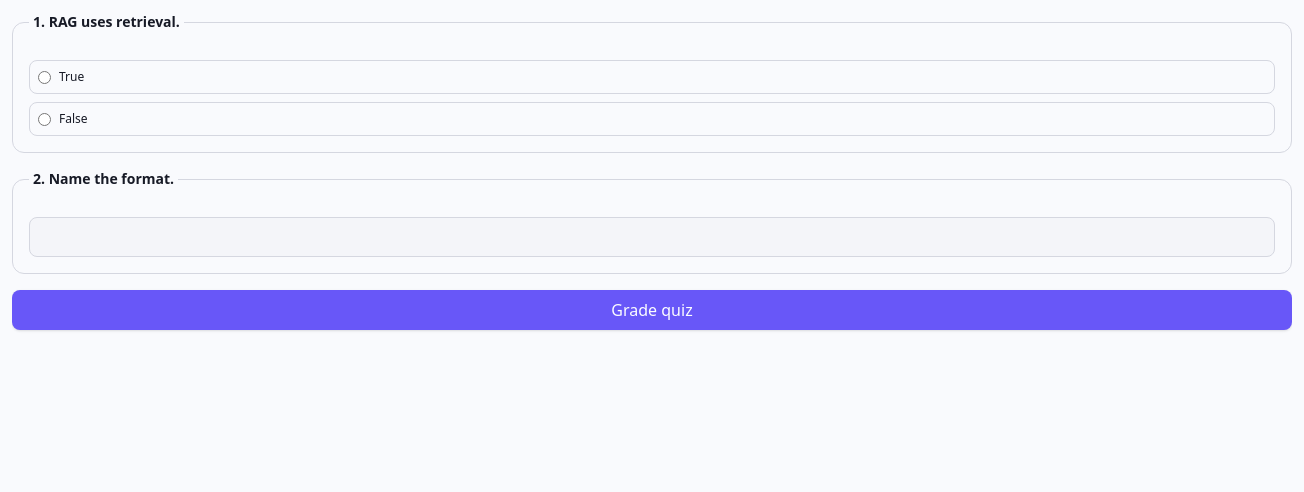
it: QuizPlayer › auto-grades and shows answer review
Click the radio button labelled "True" at [44, 77], box [38, 70, 51, 84]
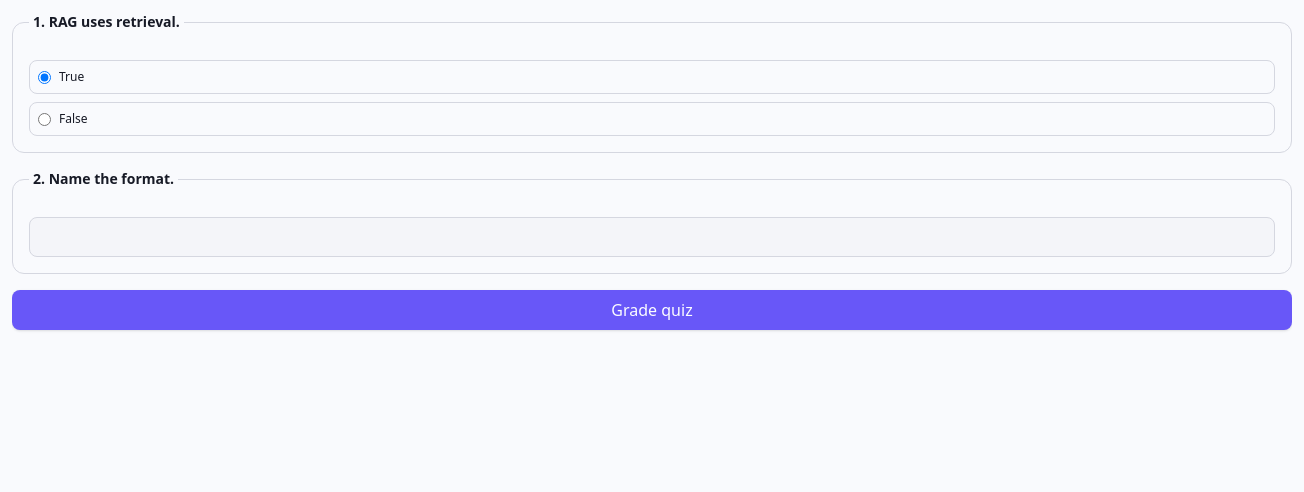
Type "csv" into the field named "Answer 2" at [652, 237], box [29, 217, 1275, 257]
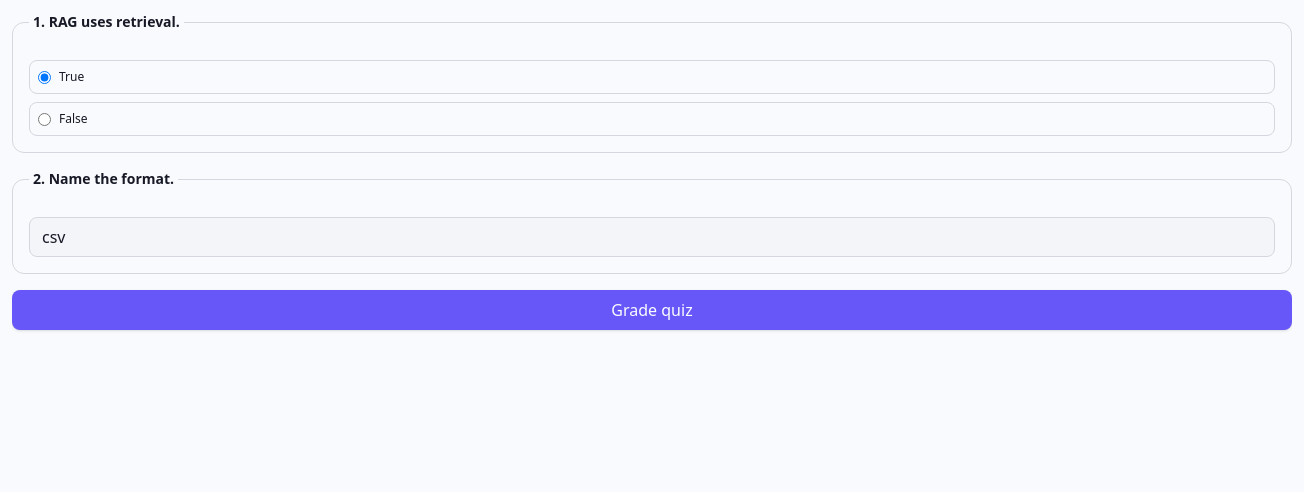
Click the button "Grade quiz" at [652, 310], box [12, 290, 1292, 330]
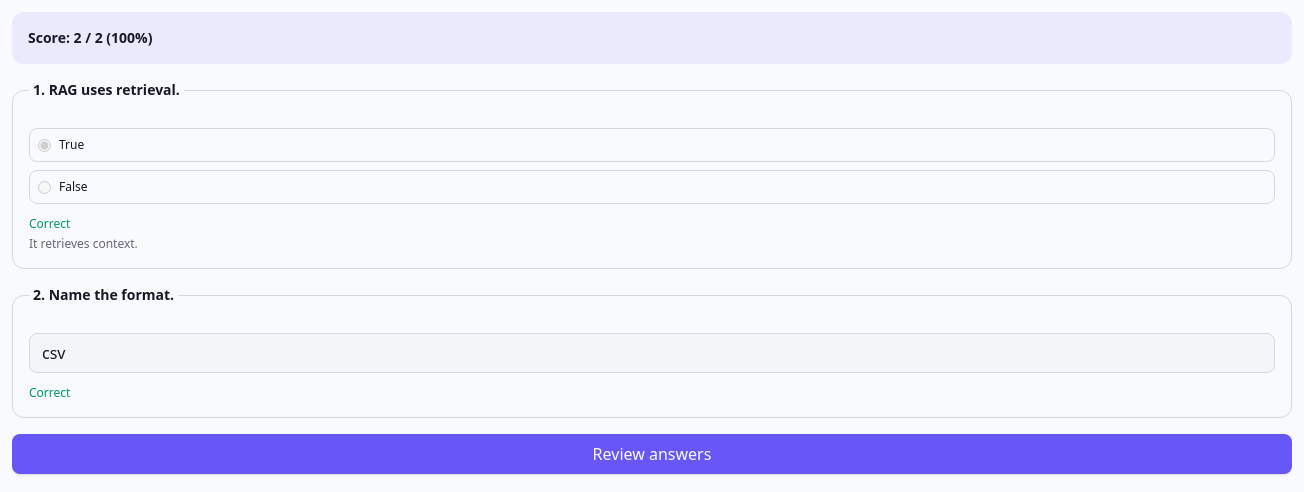
Expected: the text "Score: 2 / 2 (100%)" is shown, [12, 12, 1292, 64]
Expected: the text "Correct" is shown 2 times, [29, 215, 70, 232]; [29, 384, 70, 401]
